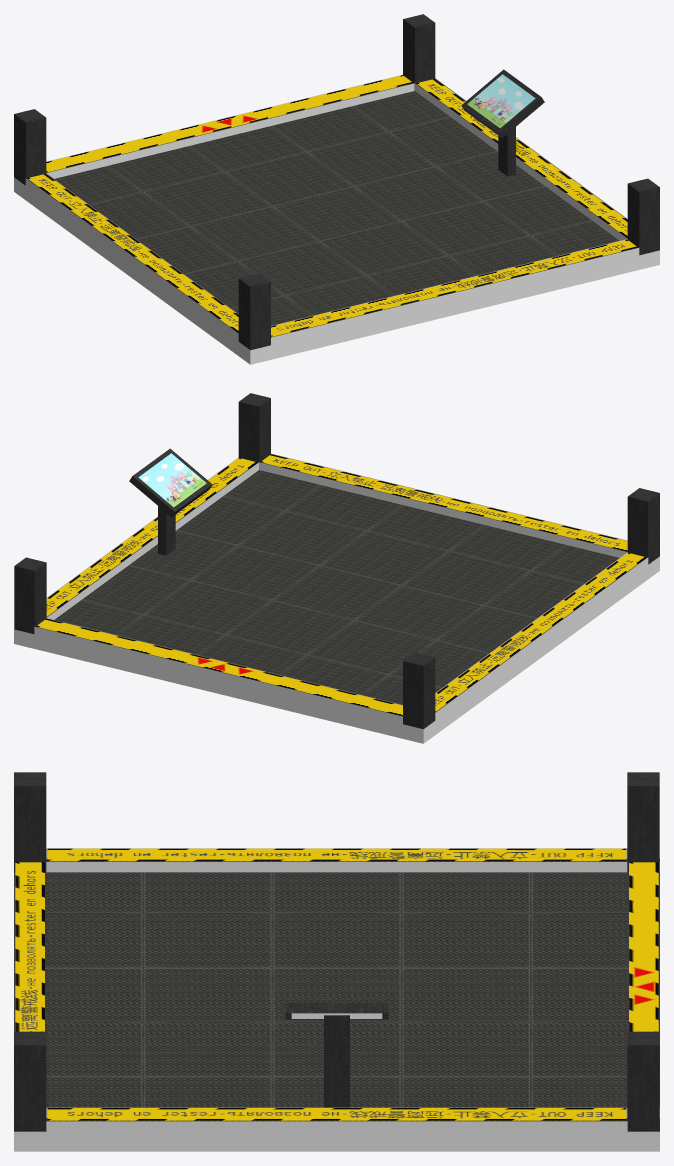
File: LiftPlane.fbx
3 renders of one model, top to bottom at view 1: azimuth 30°, elevation 25°; view 2: azimuth 150°, elevation 25°; view 3: azimuth 270°, elevation 25°, orthographic. The views are drawn at different scales.
Parts seen in each view (by area): view 1: node_id31 (×2), node_id34 (×4), node_id22 (×2), node_id19 (×2), node_id25 (×2), node_id28 (×2), node_id13, node_id10, node_id16; view 2: node_id31 (×2), node_id34 (×4), node_id19 (×2), node_id22 (×2), node_id25 (×2), node_id28 (×2), node_id13, node_id10, node_id16; view 3: node_id31 (×2), node_id28 (×2), node_id25 (×2), node_id34 (×4), node_id19, node_id22, node_id16, node_id10.
Part boxes in pixels (x1=…): node_id31 (×2): x1=14, y1=85, x2=659, y2=364; node_id34 (×4): x1=14, y1=14, x2=659, y2=350; node_id22 (×2): x1=271, y1=239, x2=639, y2=344; node_id19 (×2): x1=46, y1=74, x2=414, y2=178; node_id25 (×2): x1=25, y1=173, x2=238, y2=341; node_id28 (×2): x1=415, y1=78, x2=627, y2=240; node_id13: x1=467, y1=74, x2=535, y2=128; node_id10: x1=461, y1=69, x2=544, y2=138; node_id16: x1=498, y1=127, x2=515, y2=176; node_id31 (×2): x1=14, y1=464, x2=659, y2=743; node_id34 (×4): x1=14, y1=393, x2=659, y2=728; node_id19 (×2): x1=34, y1=618, x2=402, y2=724; node_id22 (×2): x1=259, y1=453, x2=627, y2=557; node_id25 (×2): x1=435, y1=552, x2=648, y2=720; node_id28 (×2): x1=46, y1=457, x2=258, y2=619; node_id13: x1=138, y1=453, x2=206, y2=507; node_id10: x1=129, y1=448, x2=212, y2=517; node_id16: x1=158, y1=506, x2=175, y2=555; node_id31 (×2): x1=14, y1=858, x2=659, y2=1151; node_id28 (×2): x1=46, y1=1107, x2=627, y2=1132; node_id25 (×2): x1=46, y1=848, x2=627, y2=872; node_id34 (×4): x1=14, y1=772, x2=659, y2=1131; node_id19: x1=629, y1=862, x2=658, y2=1031; node_id22: x1=15, y1=862, x2=44, y2=1031; node_id16: x1=324, y1=1015, x2=349, y2=1107; node_id10: x1=285, y1=1002, x2=388, y2=1019.
Bounding box in the file's own units: 0.512 × 0.1343 × 0.512.
22 materials, 12 textured.
